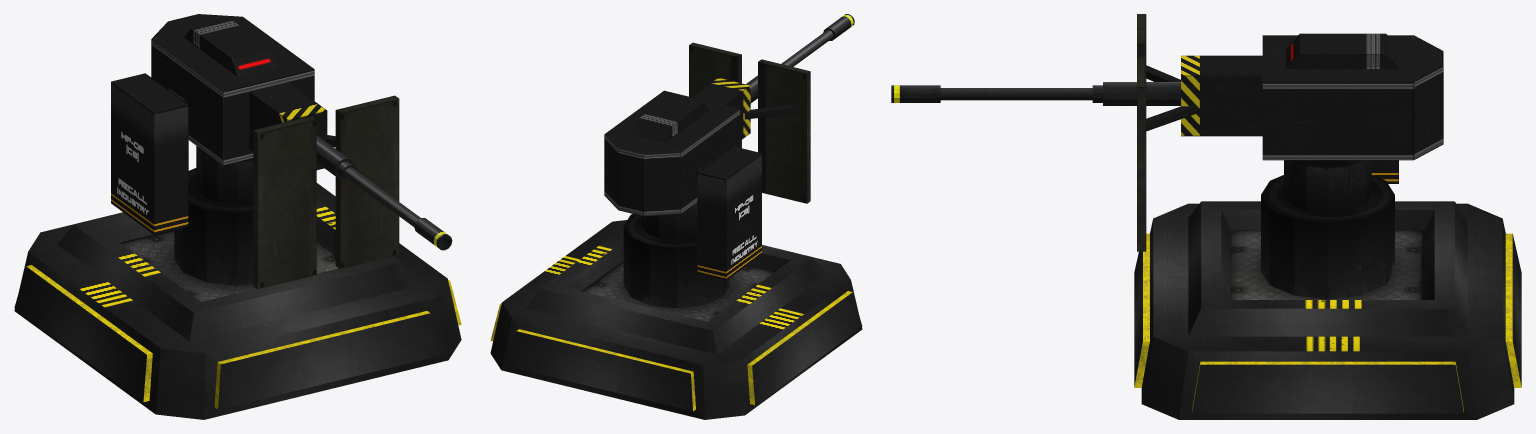
File: MachineGunTowerLv1.fbx
3 views of the same model, side by side, from view 1: azimuth 30°, elevation 25°; view 2: azimuth 150°, elevation 25°; view 3: azimuth 270°, elevation 25° (orthographic). The views are drawn at different scales.
Visible parts, largest first — view 1: Base, Main_Gun, Base_Gun, Gun; view 2: Base, Main_Gun, Base_Gun, Gun; view 3: Base, Main_Gun, Base_Gun, Gun.
Boxes of the visible parts, left/top/right/bottom form: Base: left=14, top=183, right=461, bottom=419; Main_Gun: left=111, top=14, right=399, bottom=289; Base_Gun: left=174, top=146, right=253, bottom=285; Gun: left=316, top=135, right=452, bottom=250; Base: left=490, top=220, right=862, bottom=419; Main_Gun: left=604, top=42, right=810, bottom=280; Base_Gun: left=623, top=202, right=729, bottom=308; Gun: left=746, top=14, right=854, bottom=103; Base: left=1134, top=201, right=1521, bottom=419; Main_Gun: left=1137, top=14, right=1443, bottom=251; Base_Gun: left=1261, top=160, right=1394, bottom=299; Gun: left=891, top=82, right=1180, bottom=105.
Bounding box in the file's own units: 24.9 × 21.08 × 40.51.
